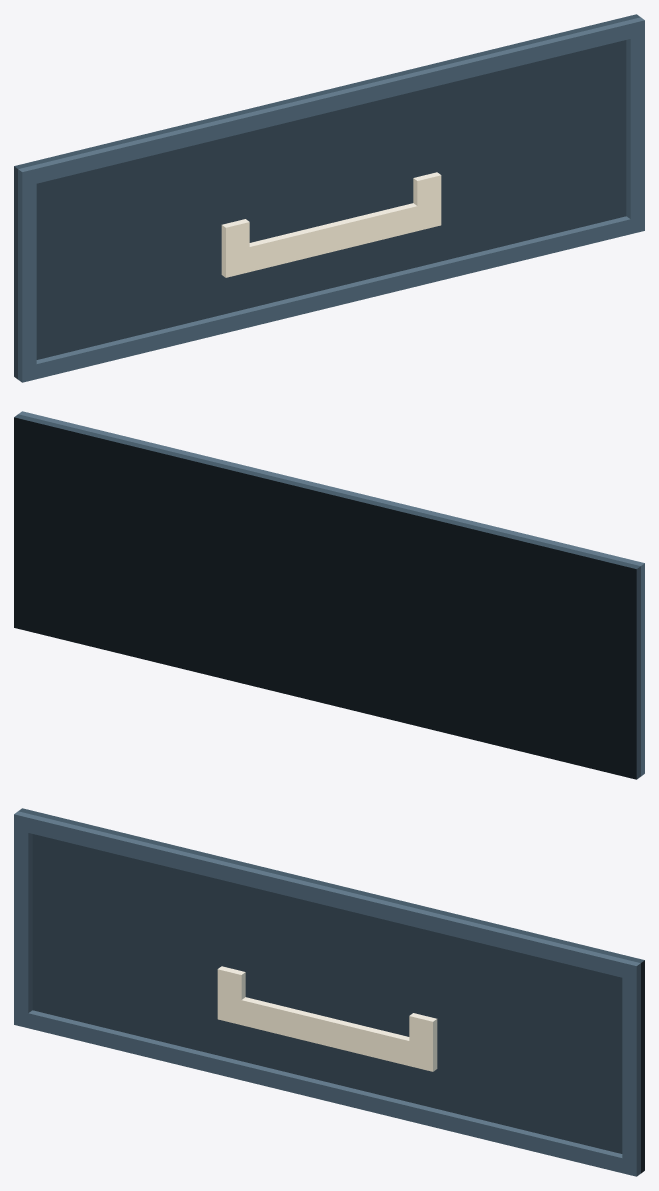
File: Key_Space.gltf
3 renders of one model, top to bottom at view 1: azimuth 30°, elevation 25°; view 2: azimuth 150°, elevation 25°; view 3: azimuth 330°, elevation 25°, orthographic.
Parts seen in each view (by area): view 1: Key_Space_baked; view 2: Key_Space_baked; view 3: Key_Space_baked.
Part boxes in pixels (x1=…): Key_Space_baked: x1=14, y1=14, x2=644, y2=382; Key_Space_baked: x1=14, y1=411, x2=644, y2=779; Key_Space_baked: x1=14, y1=808, x2=644, y2=1176.
Size of the model in its own units: 2.6 by 0.84 by 0.06.
